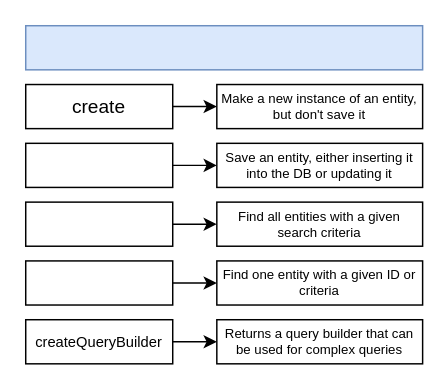
Some shapes in this 448 by 390 pixel diagram are drawn without their labels. The centre of each missing label's shape, as x and y in pixels:
"find" belongs at point (98, 223).
"findOne" belongs at point (98, 282).
"save" belongs at point (98, 164).
"TypeORM Repository" belongs at point (223, 47).
